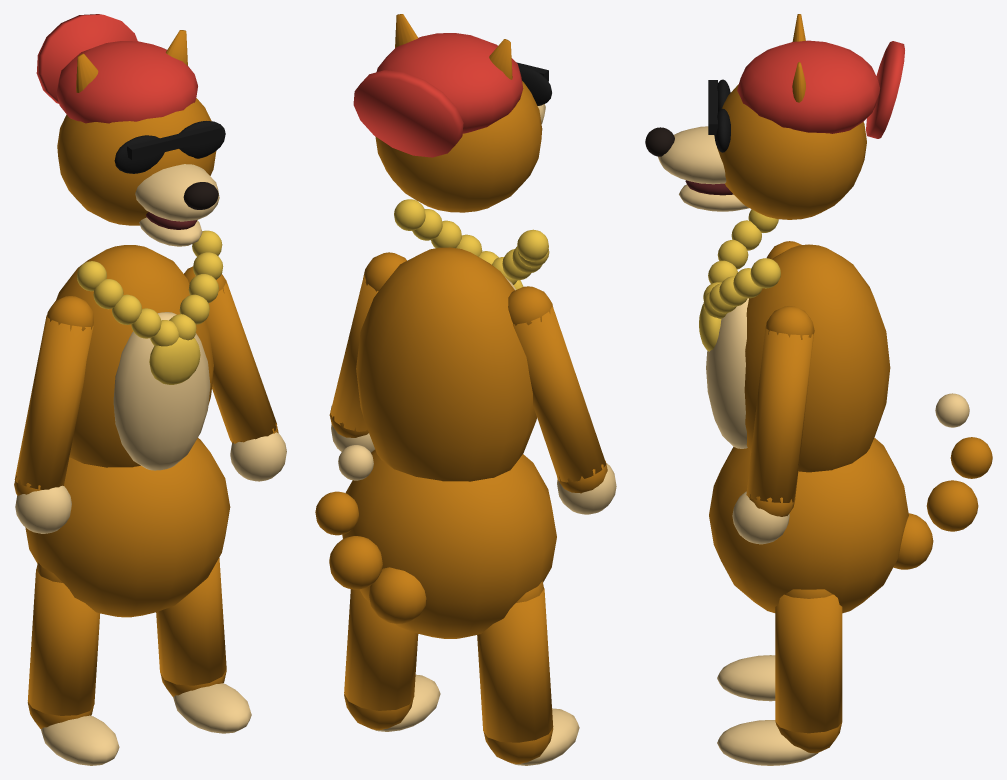
File: cau_vang_dance.glb
The picture shows the model from 3 angles, left to right: view 1: azimuth 30°, elevation 25°; view 2: azimuth 150°, elevation 25°; view 3: azimuth 270°, elevation 25°; orthographic projection. The views are drawn at different scales.
Parts seen in each view (by area): view 1: Body, Head, LegL, ArmL, LegR, ArmR, Jaw; view 2: Body, Head, LegL, ArmL, LegR, Tail, ArmR; view 3: Body, Head, LegR, ArmR, Tail, LegL, Jaw.
Part boxes in pixels (bbox=[...]): Body: bbox=[25, 230, 230, 617]; Head: bbox=[36, 14, 225, 229]; LegL: bbox=[27, 562, 119, 765]; ArmL: bbox=[14, 296, 93, 533]; LegR: bbox=[156, 557, 251, 733]; ArmR: bbox=[184, 266, 286, 481]; Jaw: bbox=[139, 217, 202, 246]; Body: bbox=[342, 199, 556, 638]; Head: bbox=[353, 14, 551, 212]; LegL: bbox=[477, 581, 579, 765]; ArmL: bbox=[508, 286, 616, 514]; LegR: bbox=[344, 589, 440, 731]; Tail: bbox=[315, 445, 426, 623]; ArmR: bbox=[329, 252, 406, 452]; Body: bbox=[699, 209, 908, 613]; Head: bbox=[645, 14, 904, 219]; LegR: bbox=[717, 589, 842, 765]; ArmR: bbox=[732, 306, 814, 544]; Tail: bbox=[893, 393, 992, 569]; LegL: bbox=[717, 655, 775, 701]; Jaw: bbox=[679, 184, 748, 211].
Bounding box in the file's own units: 0.32 × 0.7954 × 0.363.
